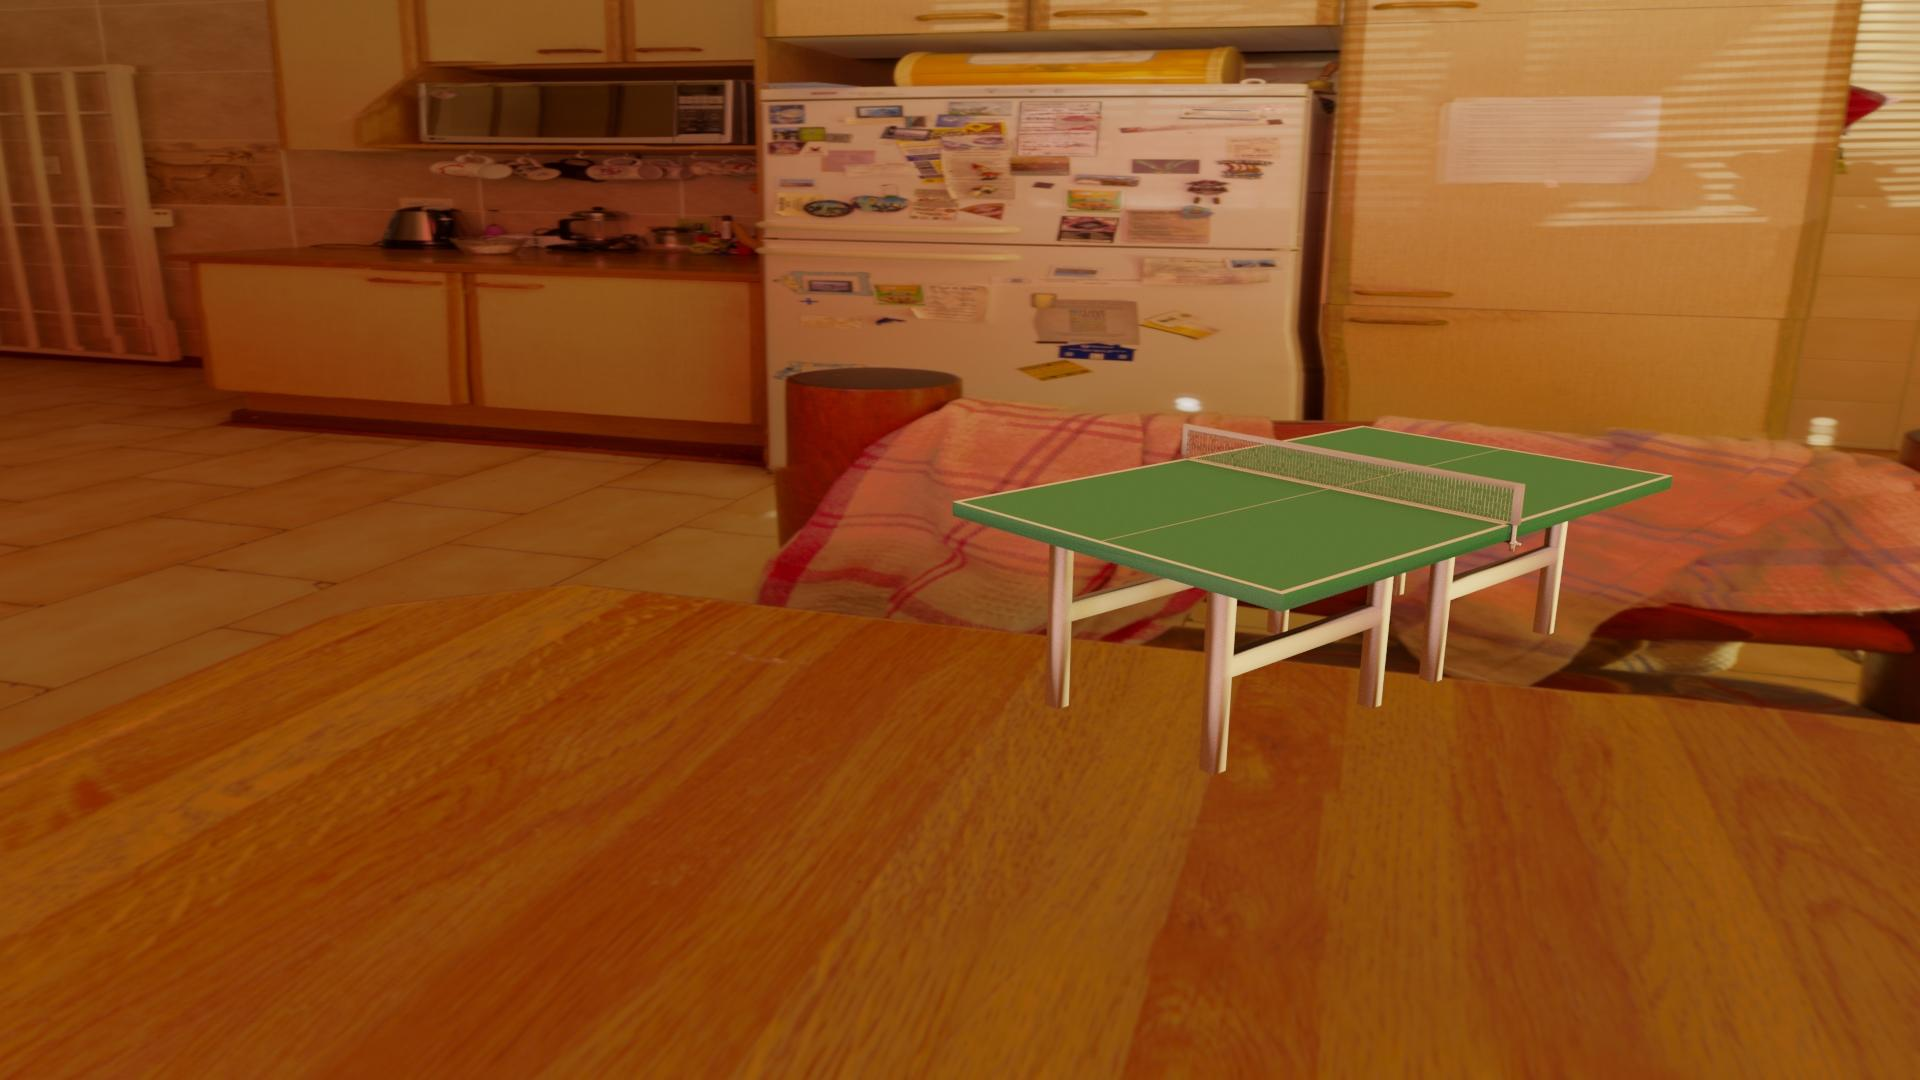table: (960, 427, 1667, 591)
